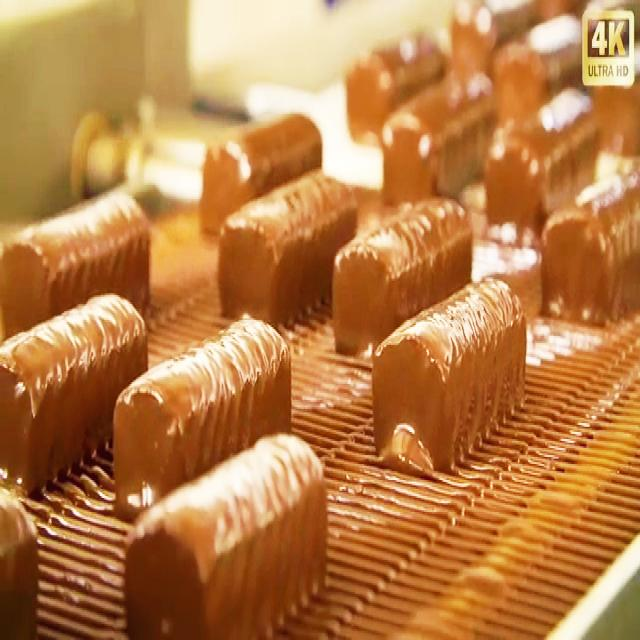Choco: (122, 428, 329, 634), (111, 310, 292, 516), (369, 270, 529, 477), (1, 288, 148, 492), (330, 190, 474, 354), (216, 164, 358, 324), (1, 187, 152, 336), (541, 161, 640, 330), (197, 106, 323, 235), (488, 94, 606, 227), (380, 65, 492, 205), (342, 27, 453, 143), (0, 499, 46, 640)
